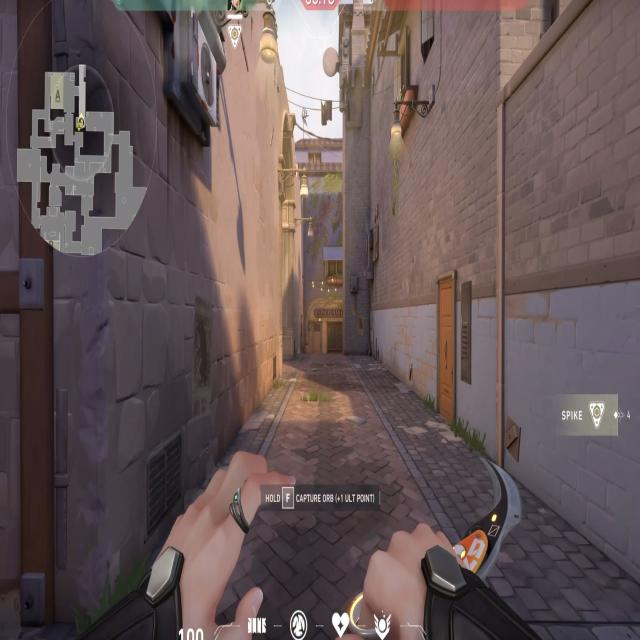Wine: (301, 289, 347, 363)
